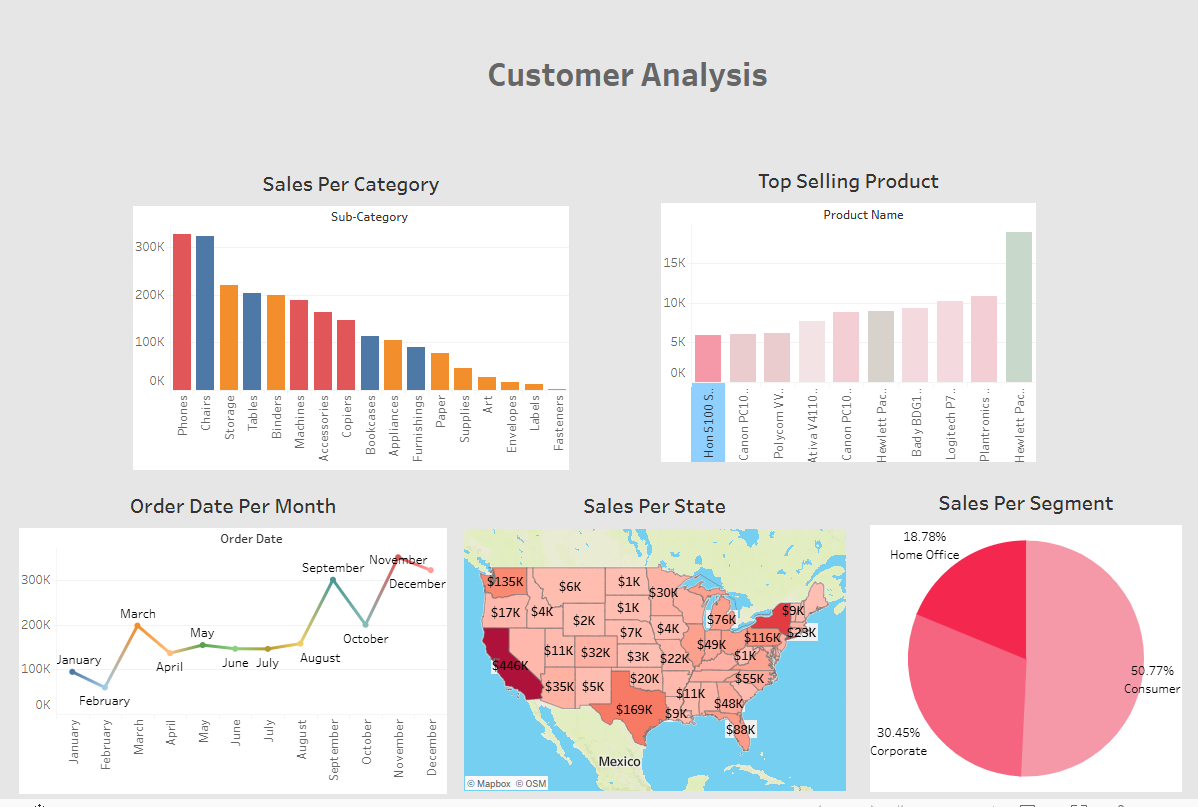

What the dashboard file says about the page in this screenshot:
{"tool":"tableau","page":{"name":"Dashboard 1","canvas":[1200,800],"ordinal":0},"visuals":[{"type":"text","box":[447,12,365,123]},{"type":"worksheet","title":"Sheet 6","mark":"Automatic","rows":["Sales"],"cols":["Product Name"],"box":[663,161,375,302]},{"type":"worksheet","title":"bar","mark":"Automatic","rows":["Sales"],"cols":["Sub-Category"],"box":[135,164,436,307]},{"type":"worksheet","title":"pie","mark":"Pie","box":[872,483,312,310]},{"type":"worksheet","title":"Sheet 3","mark":"Automatic","rows":["Sales"],"cols":["Order Date"],"box":[21,486,428,309]},{"type":"worksheet","title":"map","mark":"Multipolygon","box":[465,486,384,307]}]}

Visuals, with their boxes in screenshot pixels (x1, y1, x2, y2), scaled from the page's 1200x800 canvas onto the 1198x807 screenshot:
text: l=446, t=12, r=811, b=136
"Sheet 6" worksheet: l=662, t=162, r=1036, b=467
"bar" worksheet: l=135, t=165, r=570, b=475
"pie" worksheet (Pie marks): l=871, t=487, r=1182, b=800
"Sheet 3" worksheet: l=21, t=490, r=448, b=802
"map" worksheet (Multipolygon marks): l=464, t=490, r=848, b=800
